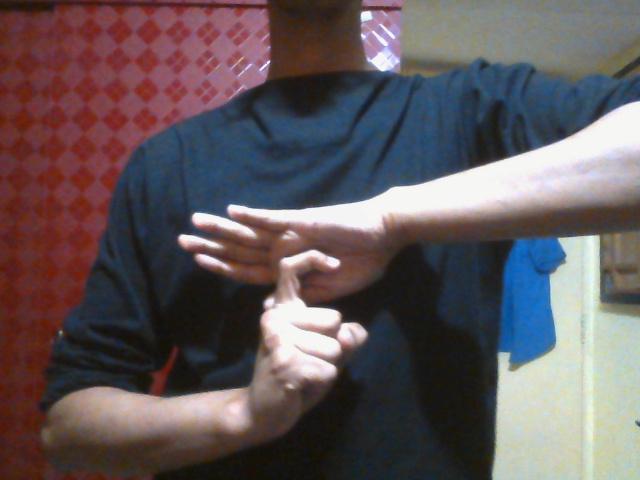R: (174, 184, 402, 423)
